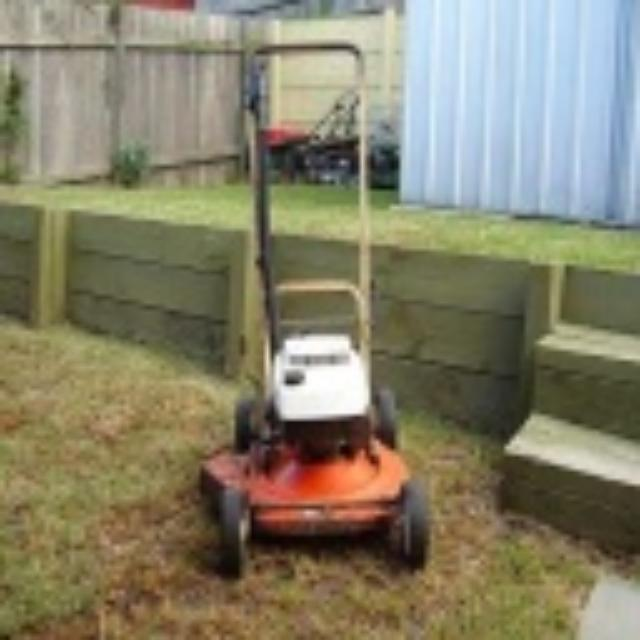Rotary-Mower: (190, 34, 436, 602)
